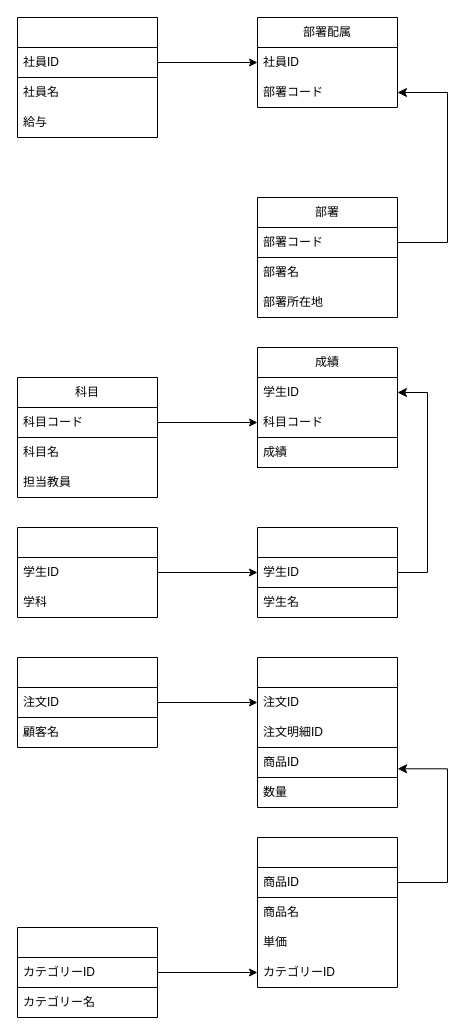
Some shapes in this 474 by 1035 pixel diagram are drawn without their labels. Here are the shapes that lost their labels. From the top down, the box of each, then its label:
(16, 16, 158, 138): 社員
(16, 526, 158, 618): 学生所属
(256, 526, 398, 618): 学生マスタ
(16, 656, 158, 748): orders
(256, 656, 398, 808): order_products
(256, 836, 398, 988): products
(16, 926, 158, 1018): categories
